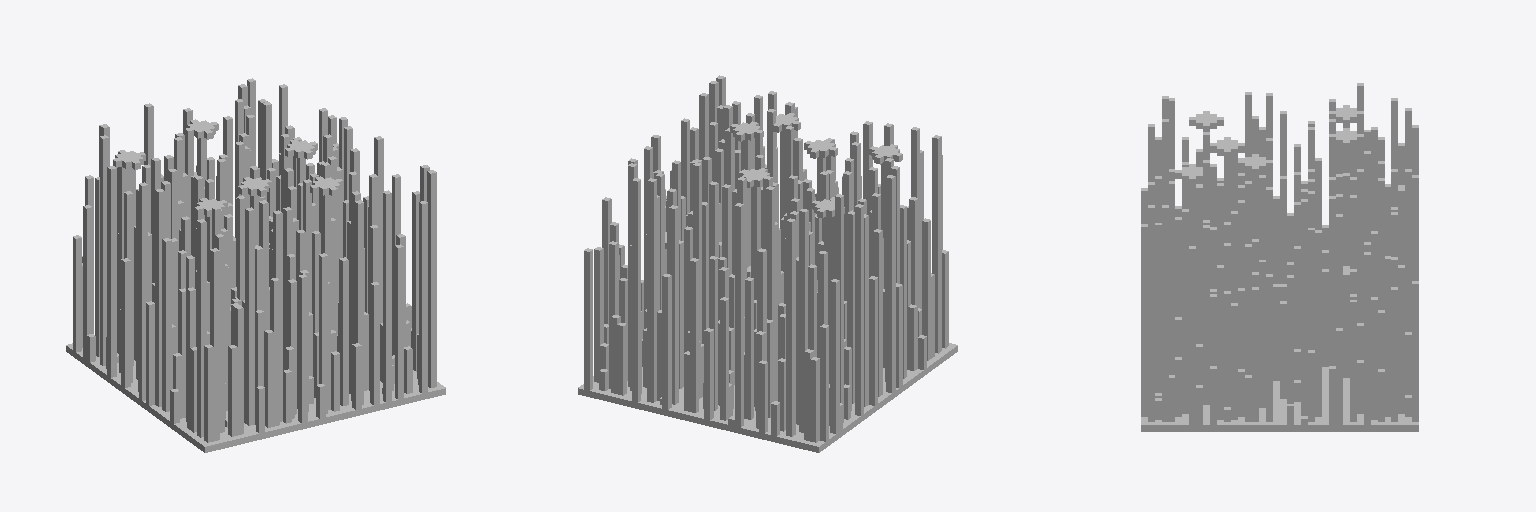
File: Flowers.obj
3 views of the same model, side by side, from view 1: azimuth 30°, elevation 25°; view 2: azimuth 150°, elevation 25°; view 3: azimuth 270°, elevation 25° (orthographic).
Parts seen in each view (by area): view 1: object 1; view 2: object 1; view 3: object 1.
Boxes of the visible parts, x1=… form: object 1: x1=66, y1=78, x2=445, y2=452; object 1: x1=578, y1=75, x2=957, y2=452; object 1: x1=1141, y1=83, x2=1418, y2=431.
Bounding box in the file's own units: 4 × 3.7 × 4.